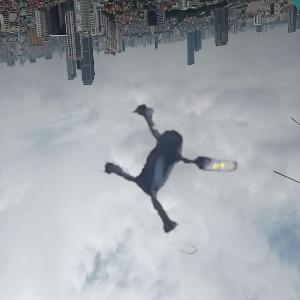drone: (86, 80, 269, 263)
